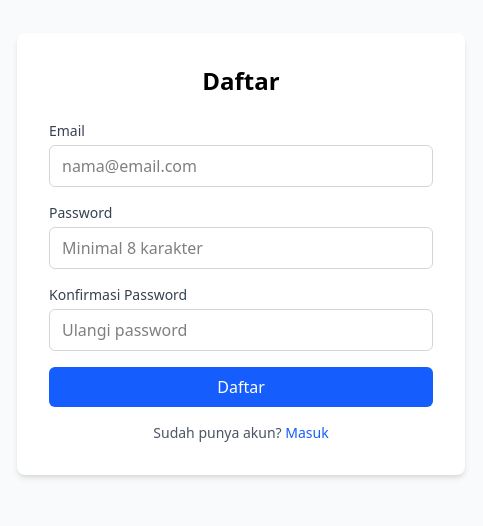
Test: RegisterForm › shows error when password is too short
The width and height of the screenshot is (483, 526).
Step 1. Type "test@test.com" into the field labelled "Email" → (241, 166), box x1=49 y1=145 x2=433 y2=187
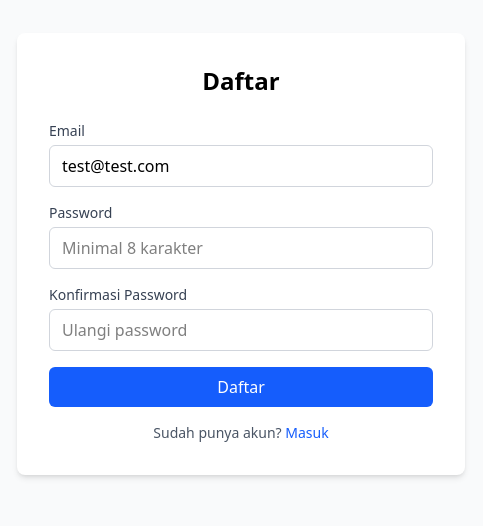
Step 2. Type "short" into the password field labelled "Password" → (241, 248), box x1=49 y1=227 x2=433 y2=269
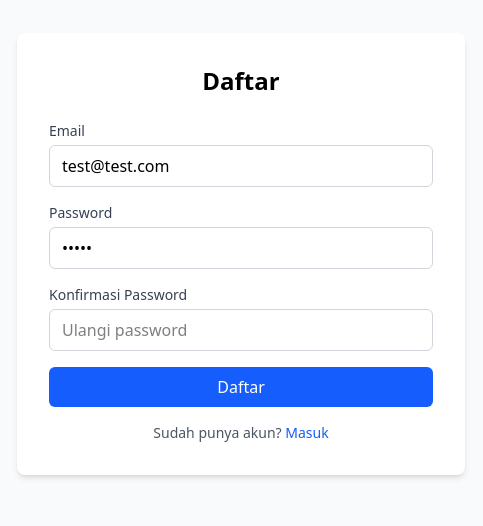
Step 3. Type "short" into the password field labelled "Konfirmasi Password" → (241, 330), box x1=49 y1=309 x2=433 y2=351
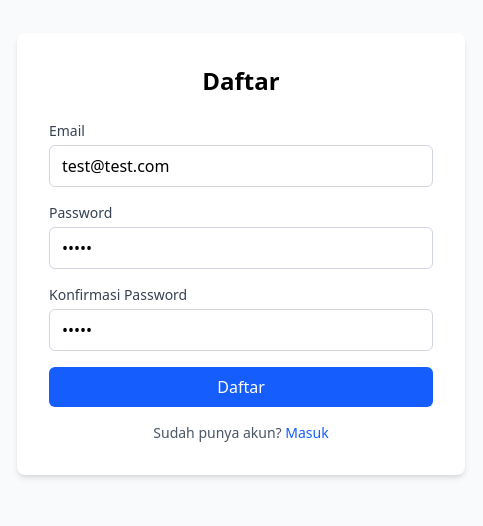
Step 4. Click the button "Daftar" → (241, 387), box x1=49 y1=367 x2=433 y2=407
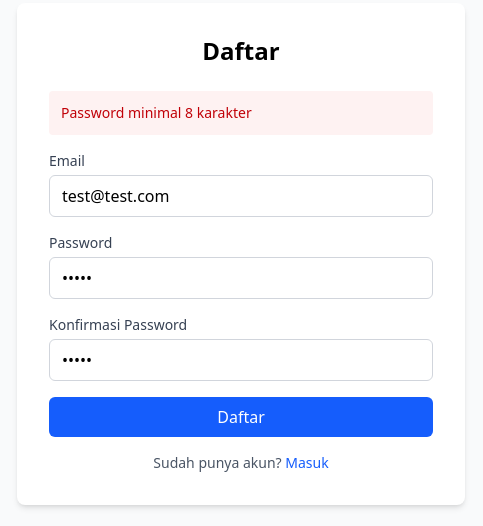
Expected: the message reads "Password minimal 8 karakter", x1=61 y1=103 x2=252 y2=122
